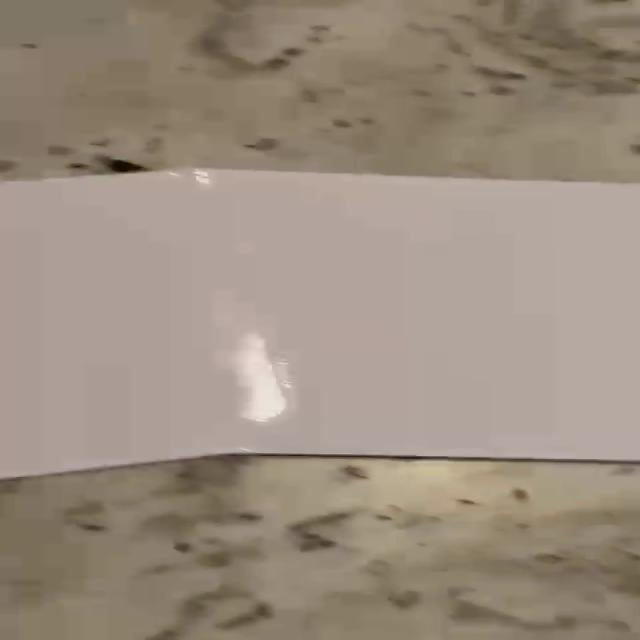road: (6, 170, 638, 478)
